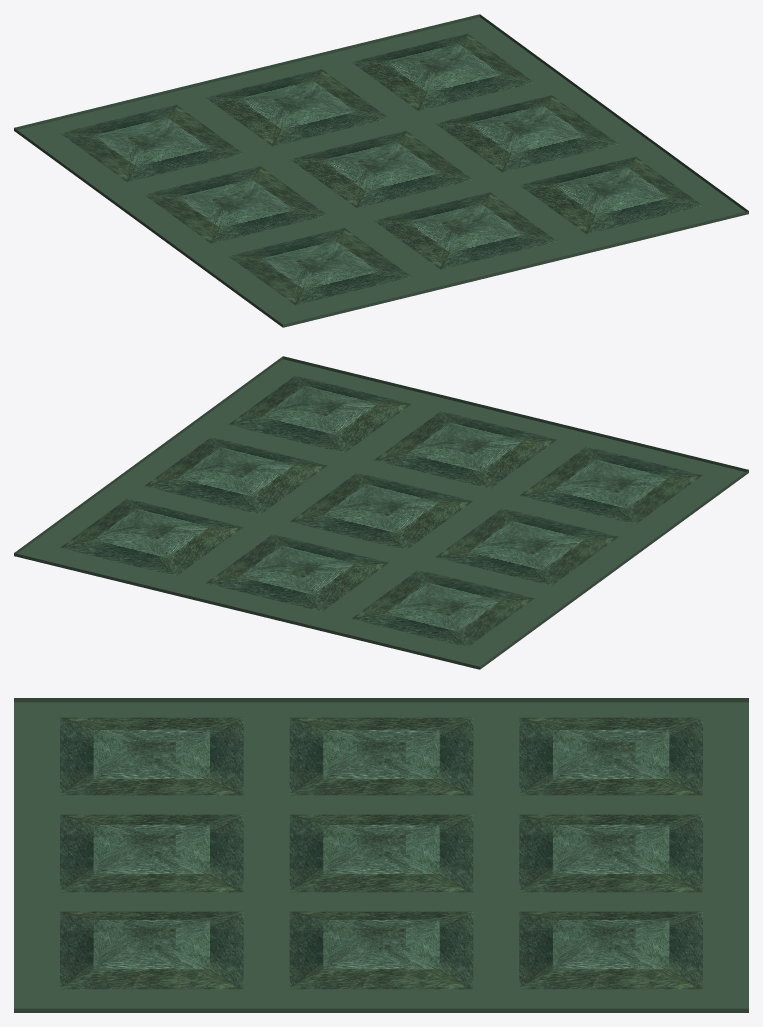
File: piramids_world.obj
3 views of the same model, one above another, from view 1: azimuth 30°, elevation 25°; view 2: azimuth 150°, elevation 25°; view 3: azimuth 270°, elevation 25° (orthographic). The views are drawn at different scales.
Visible parts, largest first — view 1: Plane; view 2: Plane; view 3: Plane.
Boxes of the visible parts, left/top/right/bottom form: Plane: left=14, top=14, right=748, bottom=327; Plane: left=14, top=356, right=748, bottom=669; Plane: left=14, top=698, right=748, bottom=1012.
Bounding box in the file's own units: 16 × 0.3753 × 16.
1 material, 1 textured.
